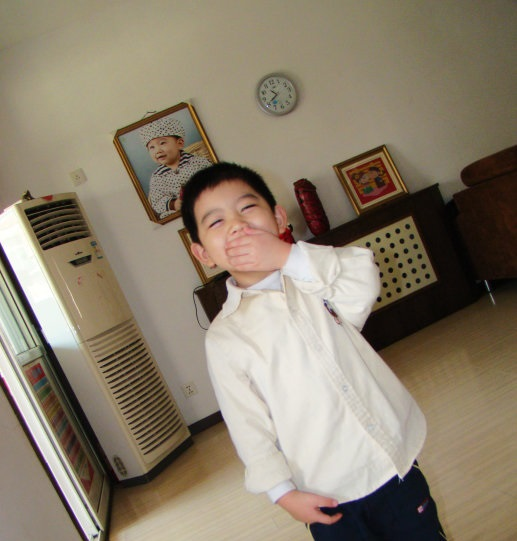face: (200, 181, 277, 272), (147, 133, 176, 165)
